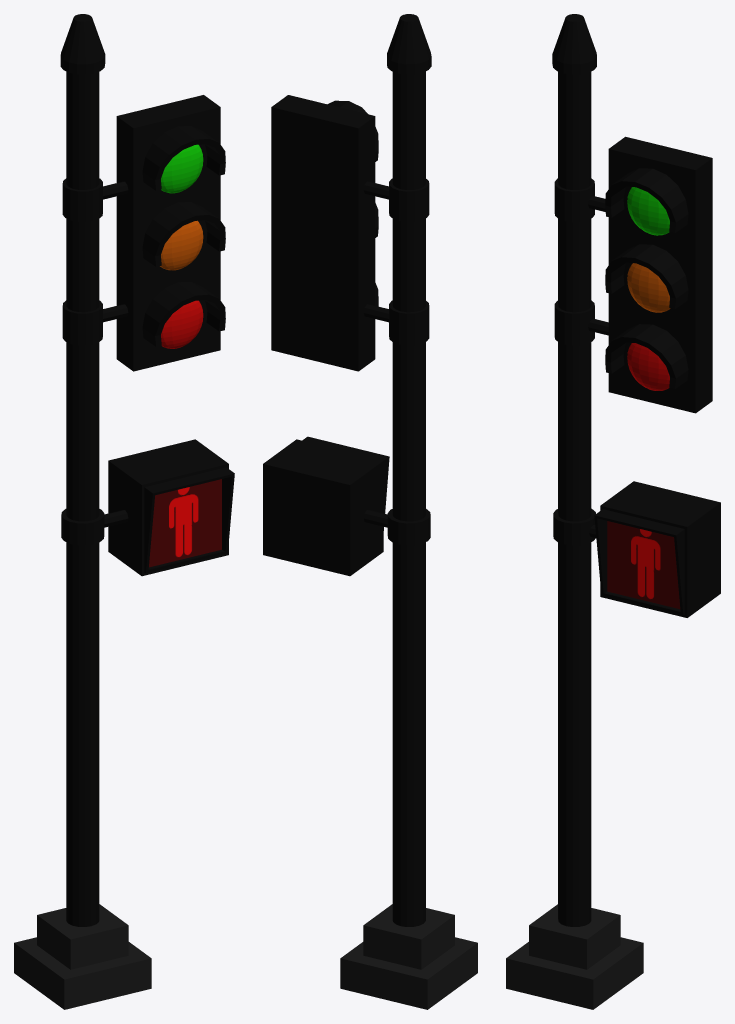
Rendered from Semaforo.obj.
The picture shows the model from 3 angles, left to right: view 1: azimuth 30°, elevation 25°; view 2: azimuth 150°, elevation 25°; view 3: azimuth 330°, elevation 25°; orthographic projection.
Parts seen in each view (by area): view 1: Tubo, CuadroLuces, CuadroPase, Base1, Base2, Cachucha2, Cachucha, Cachucha3, Amarillo, Verde, Rojo; view 2: Tubo, CuadroLuces, CuadroPase, Base1, Base2; view 3: Tubo, CuadroLuces, CuadroPase, Base1, Base2, Cachucha, Cachucha2, Cachucha3, Amarillo, Verde, Rojo.
Part boxes in pixels (x1,y1,x2,y2): Tubo: (60, 14, 105, 926); CuadroLuces: (116, 95, 220, 371); CuadroPase: (108, 439, 234, 576); Base1: (14, 937, 151, 1009); Base2: (37, 904, 128, 969); Cachucha2: (142, 202, 225, 266); Cachucha: (142, 126, 225, 190); Cachucha3: (142, 281, 225, 346); Amarillo: (160, 220, 203, 270); Verde: (161, 144, 203, 193); Rojo: (161, 300, 203, 348); Tubo: (387, 14, 431, 926); CuadroLuces: (271, 95, 375, 371); CuadroPase: (263, 436, 389, 576); Base1: (340, 937, 477, 1009); Base2: (363, 904, 454, 969); Tubo: (552, 14, 596, 926); CuadroLuces: (608, 136, 712, 413); CuadroPase: (594, 481, 720, 617); Base1: (506, 937, 643, 1009); Base2: (529, 904, 620, 969); Cachucha: (605, 168, 688, 233); Cachucha2: (605, 244, 688, 309); Cachucha3: (605, 324, 688, 388); Amarillo: (627, 263, 670, 312); Verde: (627, 187, 669, 235); Rojo: (627, 343, 669, 390).
Size of the model in its own units: 1.19 by 6.33 by 0.615.
